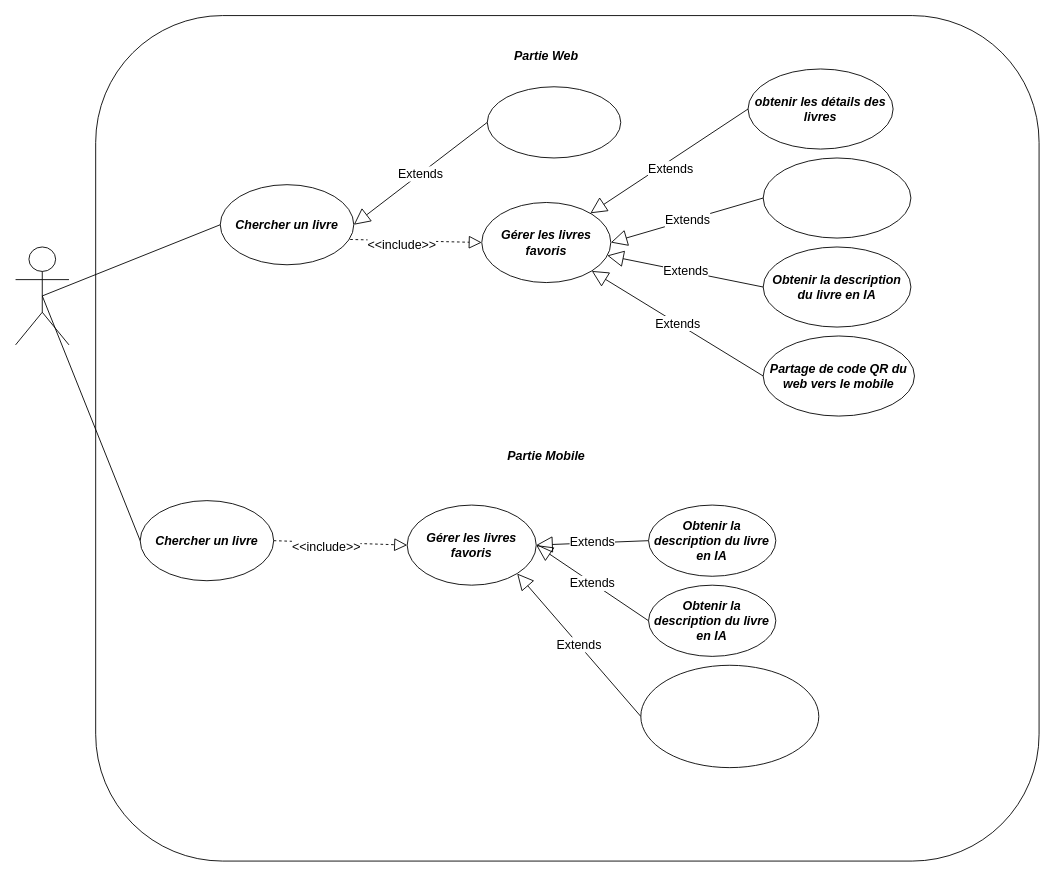
The diagram is 1055 pixels wide and 877 high, and some of its shapes have lost their labels. Each missing label, with the centre of its shape:
"Parcourir les résultats de la recherche" belongs at (836,197).
"Personne" belongs at (42,295).
"Recherche avancée" belongs at (553,122).
"scannez le code qr pour recevoir les livres sur votre téléphone portable" belongs at (729,716).
